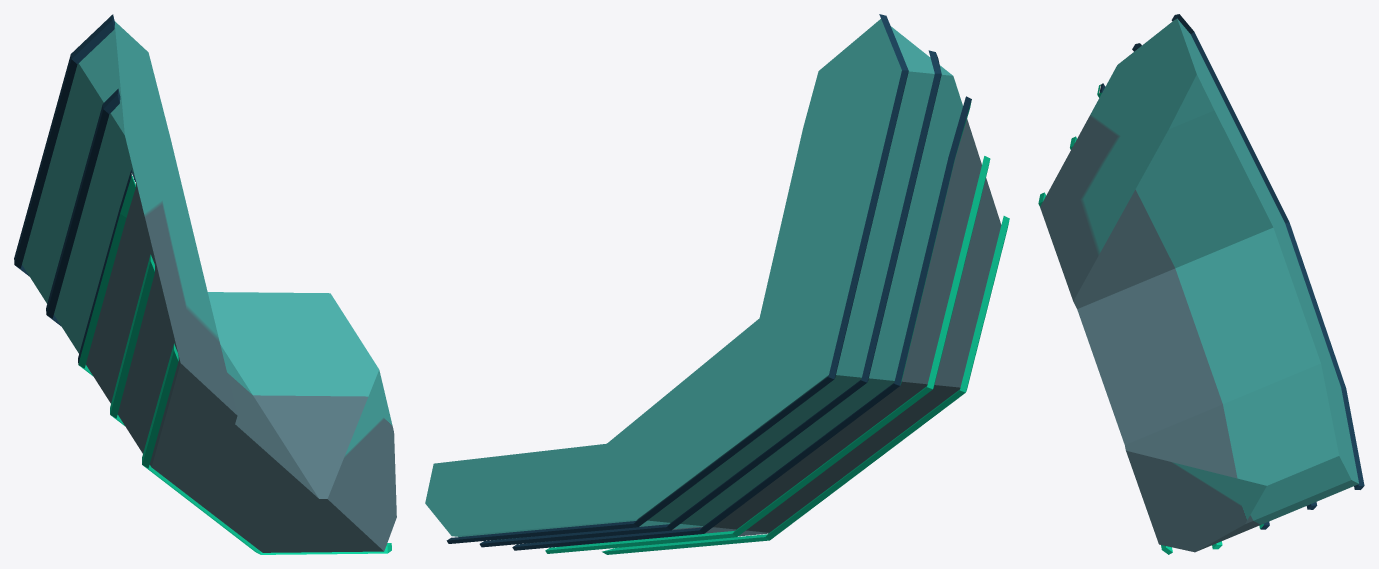
The model's file is Freighter_Guard.03.fbx.
3 views of the same model, side by side, from view 1: azimuth 30°, elevation 25°; view 2: azimuth 150°, elevation 25°; view 3: azimuth 270°, elevation 25° (orthographic). The views are drawn at different scales.
Visible parts, largest first — view 1: CruiserGuard_03_LOD0; view 2: CruiserGuard_03_LOD0; view 3: CruiserGuard_03_LOD0.
Part boxes in pixels (x1=…): CruiserGuard_03_LOD0: x1=14, y1=14, x2=396, y2=554; CruiserGuard_03_LOD0: x1=425, y1=14, x2=1009, y2=554; CruiserGuard_03_LOD0: x1=1038, y1=14, x2=1364, y2=554.
Size of what is drawn, in the model's own units: 6782 by 10723 by 7161.
1 material, 1 textured.
